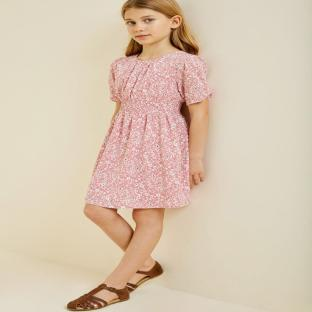Human: (68, 0, 213, 310)
